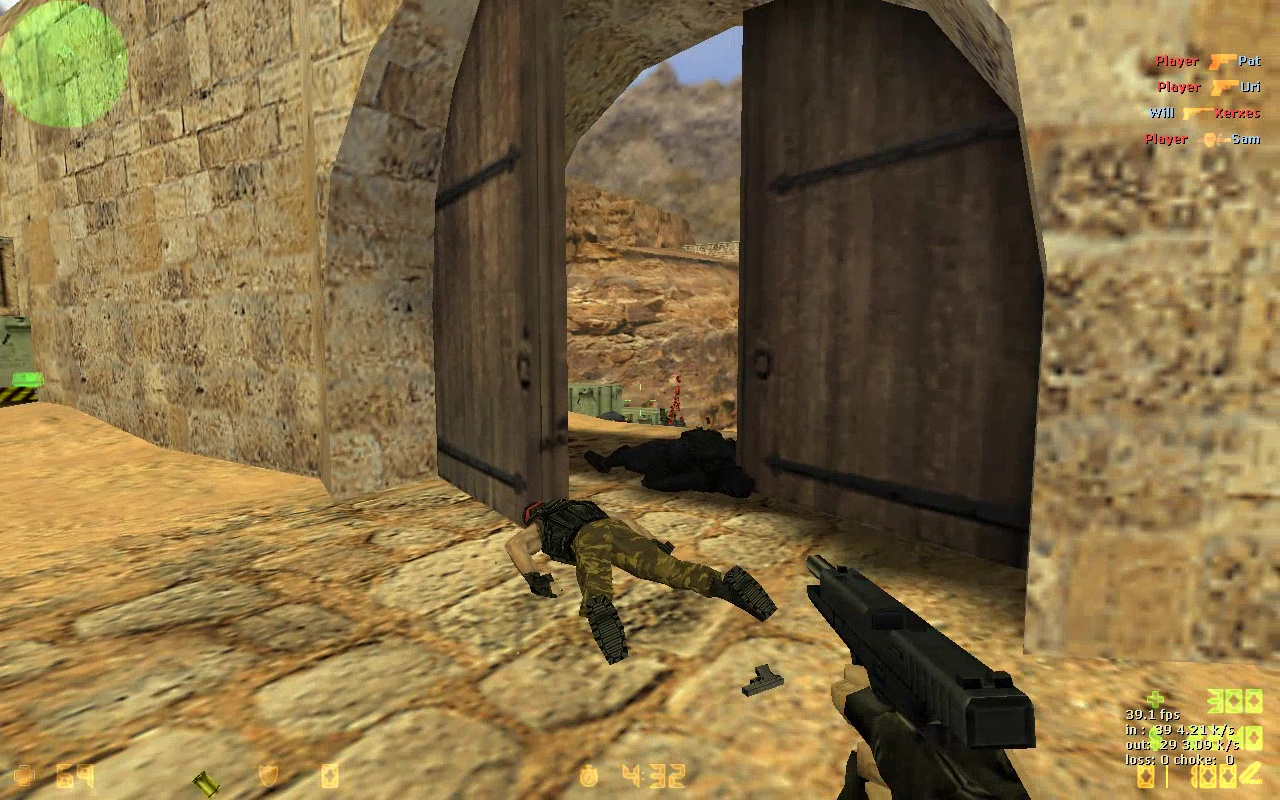dead: (501, 500, 777, 657), (584, 424, 753, 505)
